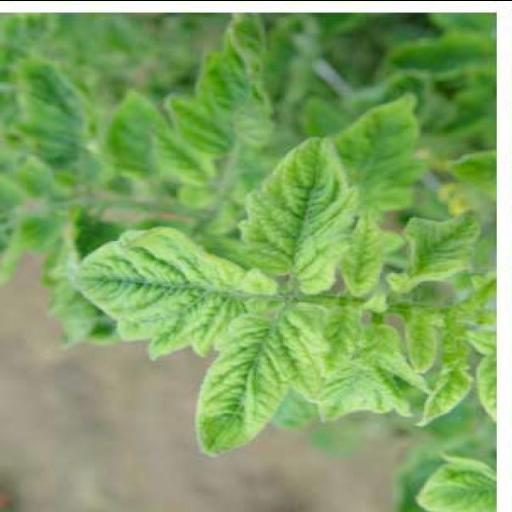disease_tomato: (63, 208, 275, 358), (229, 114, 359, 300), (173, 303, 322, 463), (329, 82, 428, 218), (382, 201, 484, 292), (412, 450, 496, 512)
